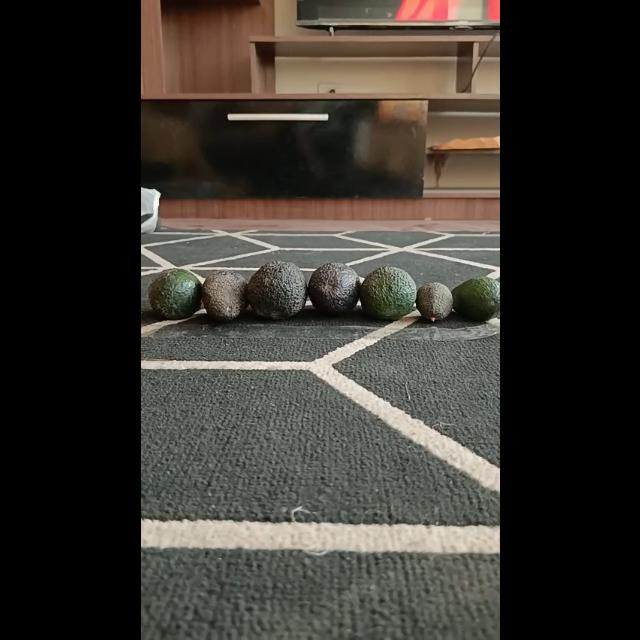Primera: (246, 261, 306, 319), (307, 261, 361, 315), (146, 268, 202, 320)
Segunda: (358, 266, 416, 320), (200, 270, 250, 322), (450, 276, 498, 322)
Tercera: (414, 282, 454, 322)
